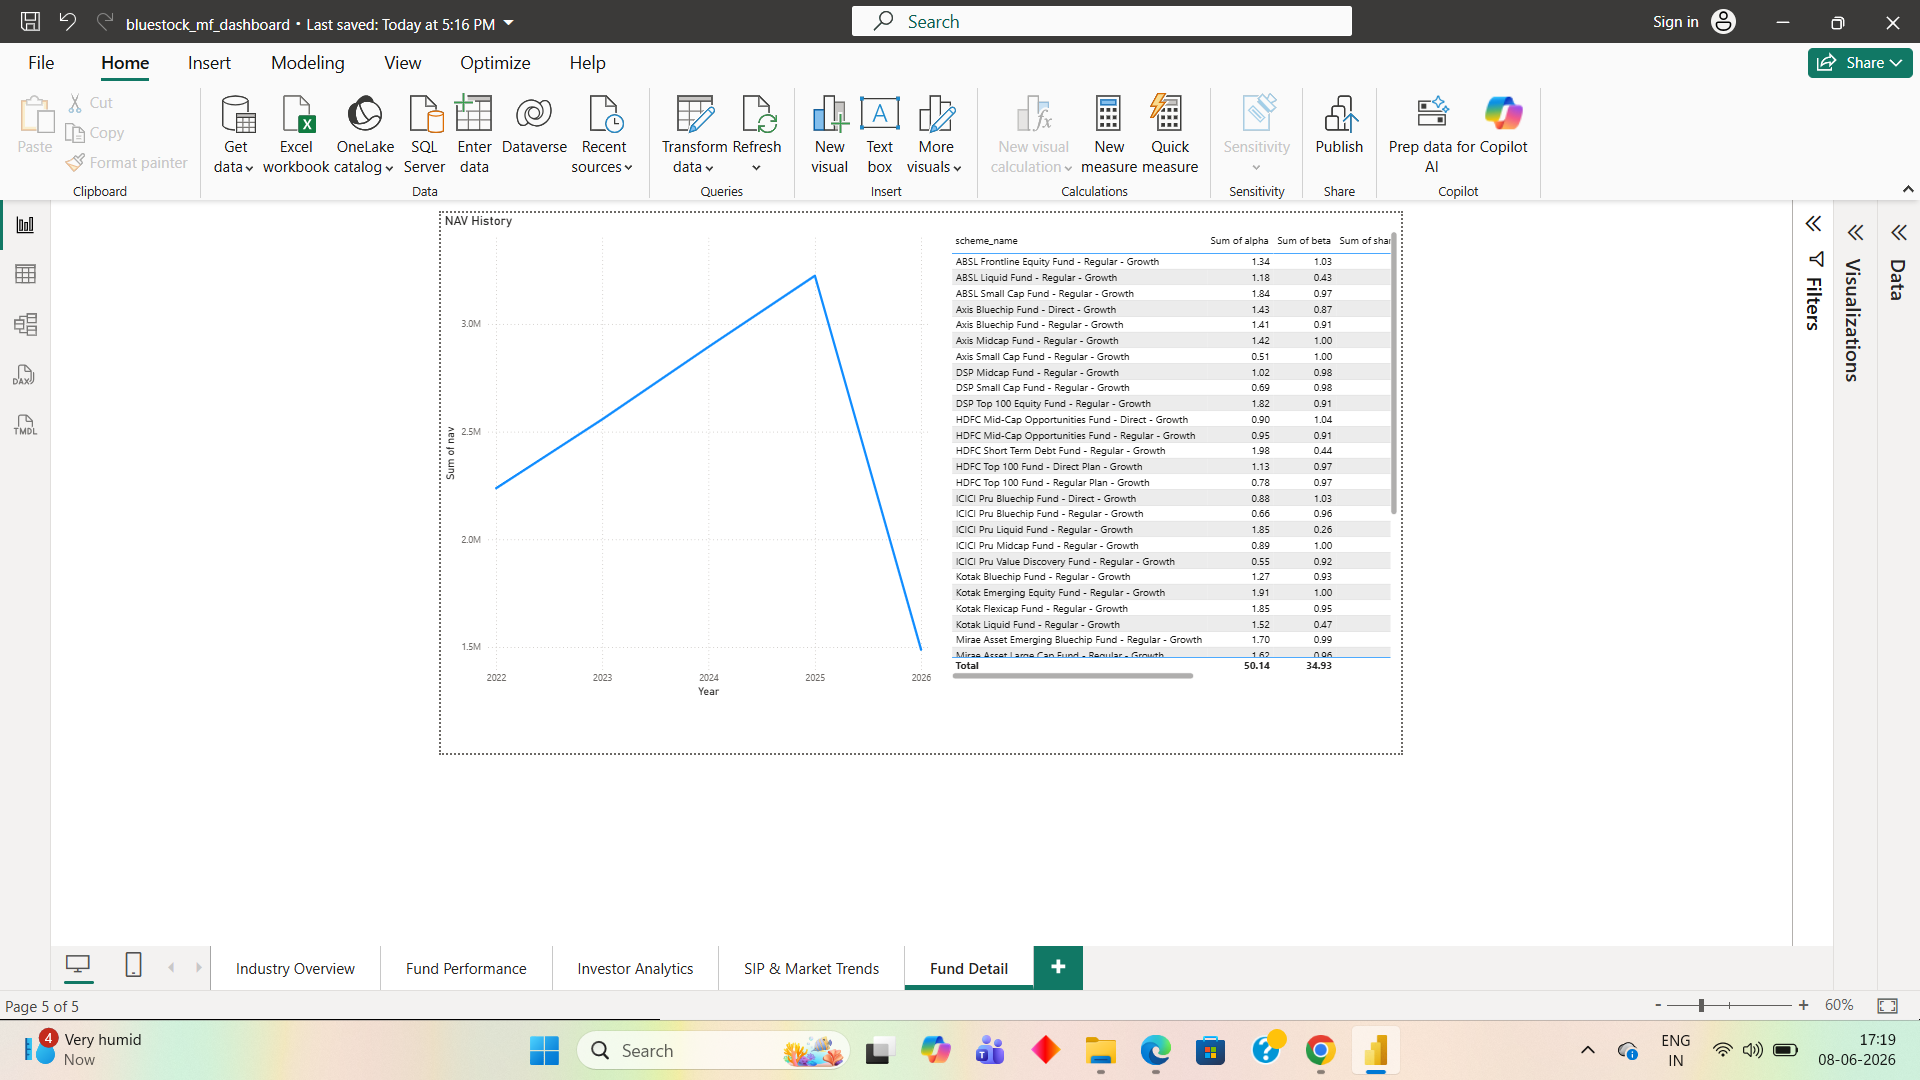

The page's visual inventory and layout, read from the dashboard file:
{"tool":"powerbi","page":{"name":"Fund Detail","canvas":[1280,720],"ordinal":4},"visuals":[{"type":"actionButton","box":[0,0,100,40],"z":0},{"type":"lineChart","title":"NAV History","fields":{"Category":["02_nav_history_clean.date.Variation.Date Hierarchy.Year","02_nav_history_clean.date.Variation.Date Hierarchy.Quarter","02_nav_history_clean.date.Variation.Date Hierarchy.Month","02_nav_history_clean.date.Variation.Date Hierarchy.Day"],"Y":["Sum(02_nav_history_clean.nav)"]},"box":[0,0,658.3,651.7],"z":1},{"type":"tableEx","fields":{"Values":["07_scheme_performance_clean.scheme_name","Sum(07_scheme_performance_clean.alpha)","Sum(07_scheme_performance_clean.beta)","Sum(07_scheme_performance_clean.sharpe_ratio)","Sum(07_scheme_performance_clean.aum_crore)","Sum(07_scheme_performance_clean.expense_ratio_pct)","Sum(07_scheme_performance_clean.return_3yr_pct)"]},"box":[675,20,605,606.7],"z":2}]}

Visuals, with their boxes on the page's 1280x720 design canvas (x1, y1, x2, y2). These are canvas units, not pixel positions in the 1920x1080 screenshot, which may show the page scaled, cropped or inside an application window:
actionButton: BBox(0, 0, 100, 40)
"NAV History" lineChart: BBox(0, 0, 658, 652)
tableEx - 07_scheme_performance_clean.scheme_name x Sum(07_scheme_performance_clean.alpha): BBox(675, 20, 1280, 627)
